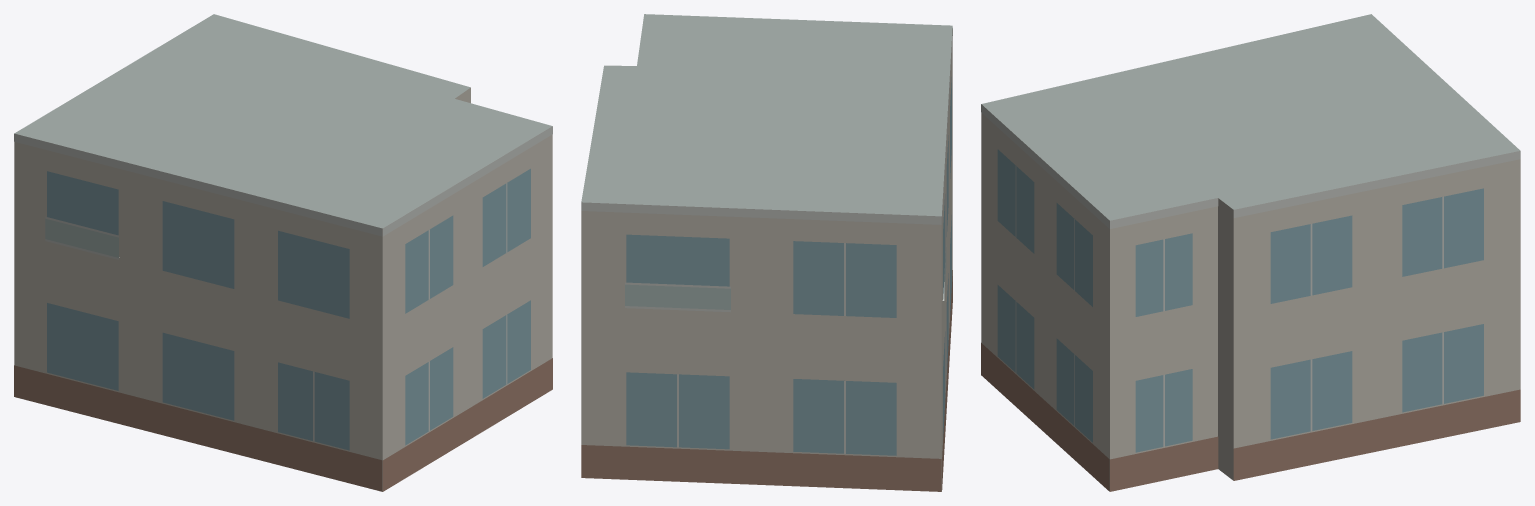
The model's file is survey-upis-32812376.glb.
3 renders of one model, left to right at view 1: azimuth 30°, elevation 25°; view 2: azimuth 150°, elevation 25°; view 3: azimuth 270°, elevation 25°, orthographic. The views are drawn at different scales.
Visible parts, largest first — view 1: survey-upis-32812376.tmp; view 2: survey-upis-32812376.tmp; view 3: survey-upis-32812376.tmp.
Boxes of the visible parts, x1=… form: survey-upis-32812376.tmp: x1=14, y1=14, x2=552, y2=491; survey-upis-32812376.tmp: x1=581, y1=14, x2=952, y2=491; survey-upis-32812376.tmp: x1=981, y1=14, x2=1520, y2=491.
Size of the model in its own units: 12.93 by 7.9 by 14.26.
